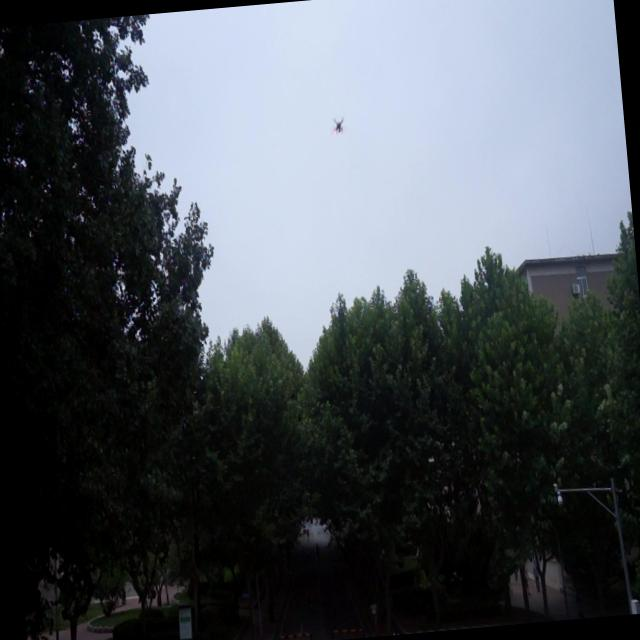drone: (329, 112, 345, 140)
